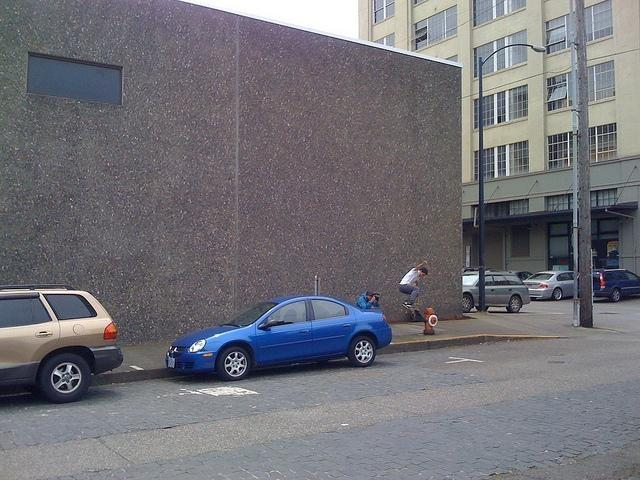car: (168, 293, 392, 381), (0, 283, 125, 404), (463, 271, 531, 313), (528, 270, 580, 302), (594, 269, 639, 302), (514, 270, 534, 282)
